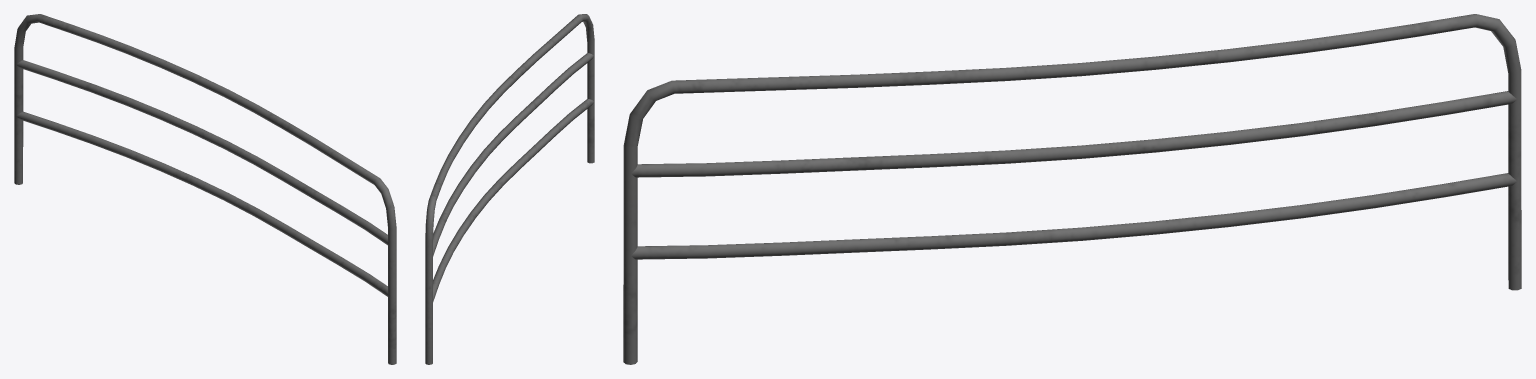
Rendered from CorrimaoMedio.FBX.
3 views of the same model, side by side, from view 1: azimuth 30°, elevation 25°; view 2: azimuth 150°, elevation 25°; view 3: azimuth 270°, elevation 25° (orthographic). The views are drawn at different scales.
Parts seen in each view (by area): view 1: CorrimaoMedio; view 2: CorrimaoMedio; view 3: CorrimaoMedio.
Boxes of the visible parts, <box> form: CorrimaoMedio: <box>14,14,396,364</box>; CorrimaoMedio: <box>425,14,594,364</box>; CorrimaoMedio: <box>623,14,1521,364</box>.
Size of the model in its own units: 67.01 by 109 by 317.
